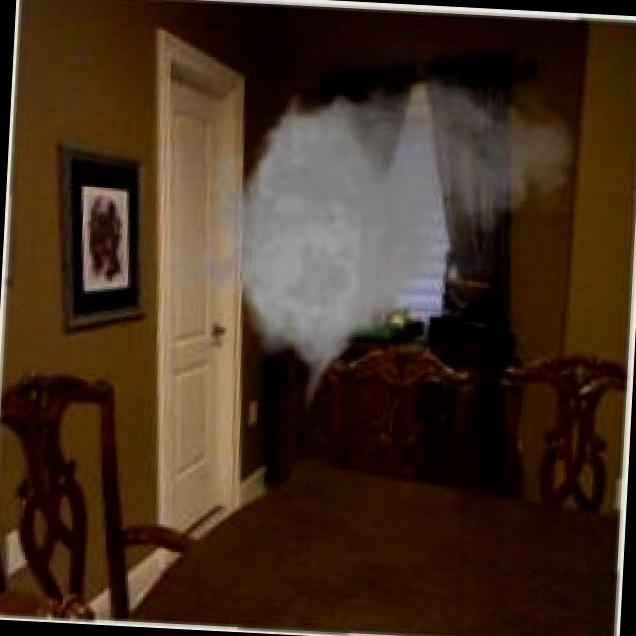smoke: (173, 49, 586, 432)
